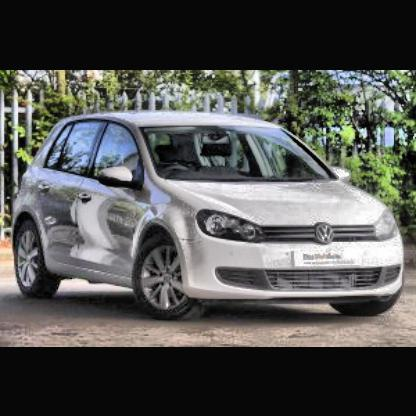Volkswagen Golf Hatchback 2012: (15, 114, 406, 320)
